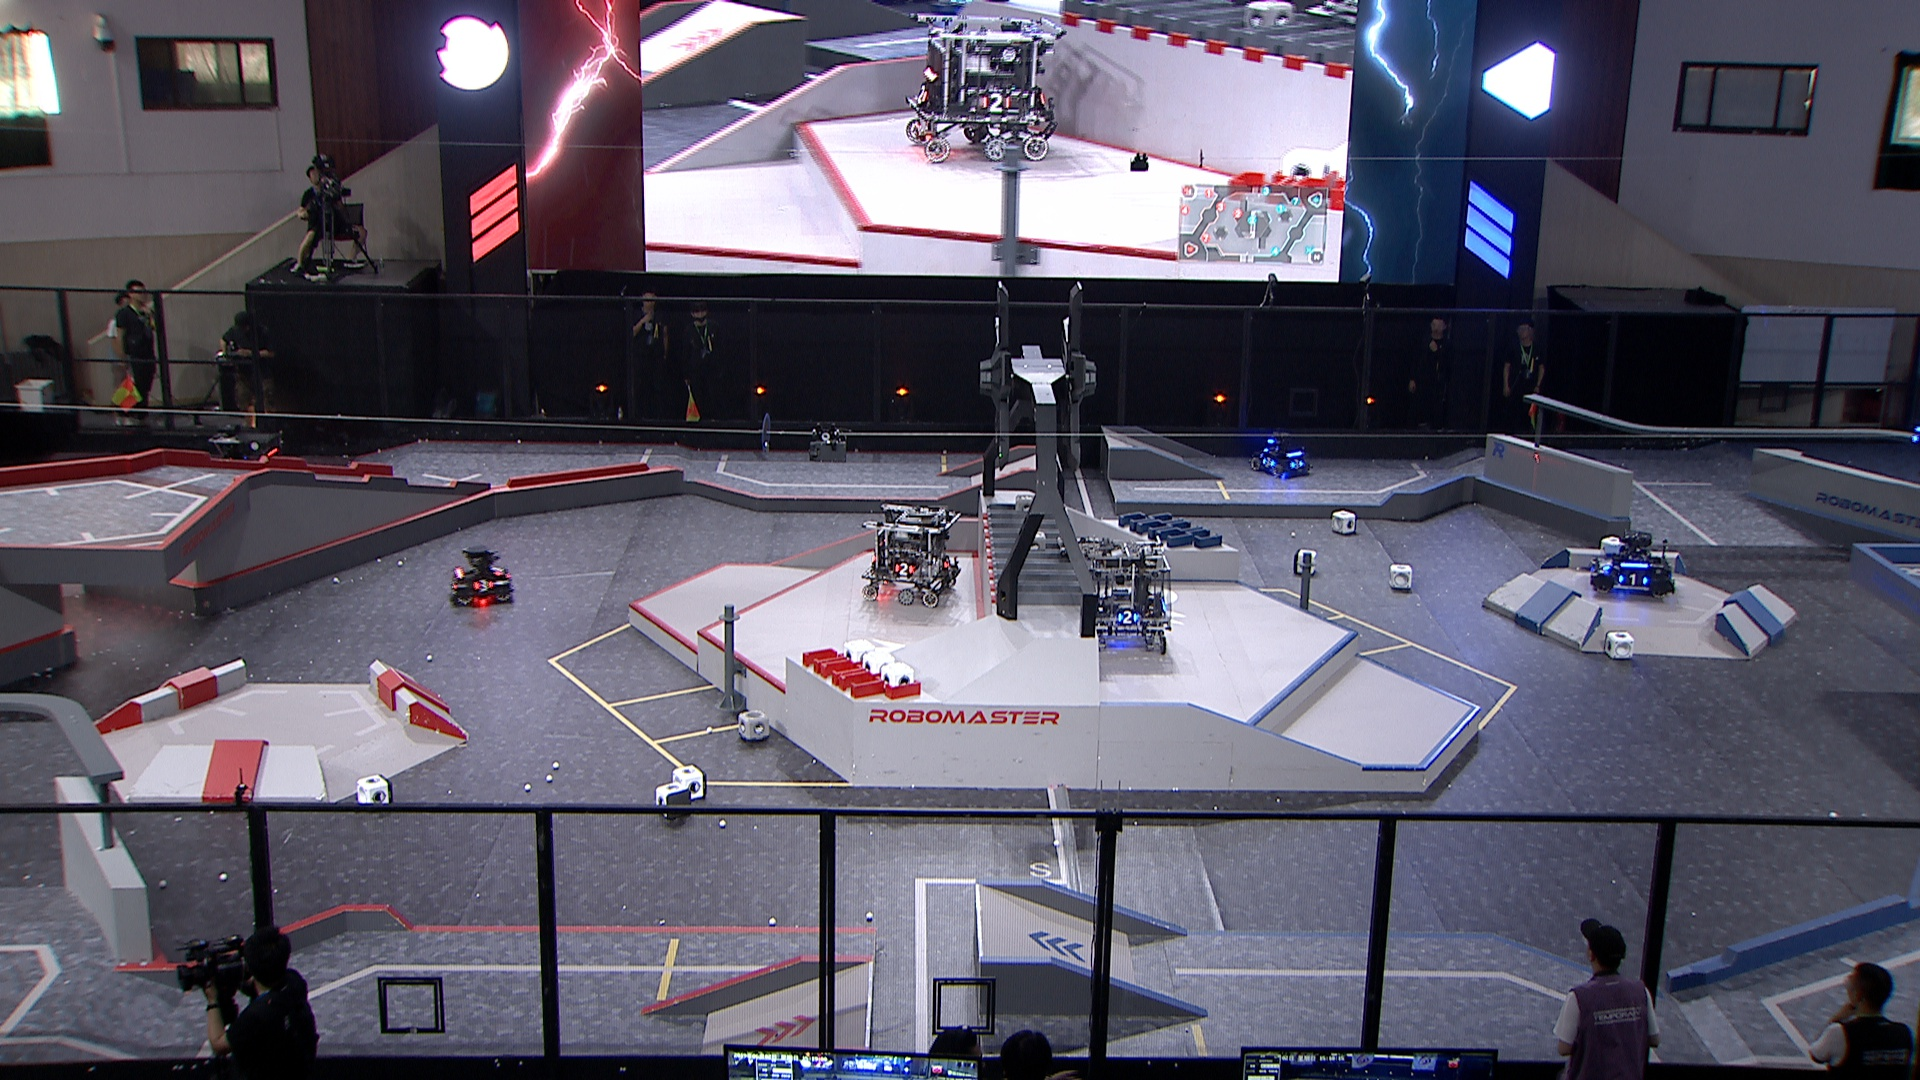armor: (1618, 571, 1650, 585), (891, 560, 915, 578), (1116, 608, 1139, 624), (472, 578, 495, 591), (1259, 454, 1276, 469), (1596, 555, 1613, 570), (491, 564, 506, 579), (1288, 458, 1305, 469), (942, 555, 953, 571)
car: (1077, 538, 1176, 655), (858, 498, 963, 607), (206, 422, 289, 508), (1584, 527, 1673, 597), (446, 546, 518, 608), (1247, 433, 1313, 479)
ignore: (905, 12, 1068, 166)
